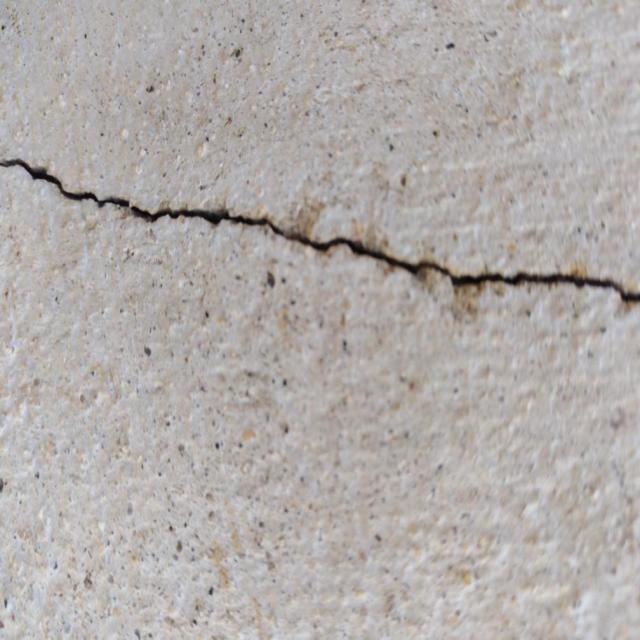diagonal crack: (0, 156, 639, 303)
